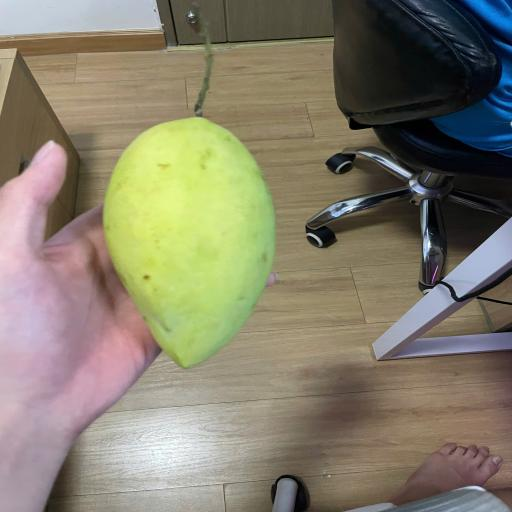xoai: (103, 36, 275, 368)
